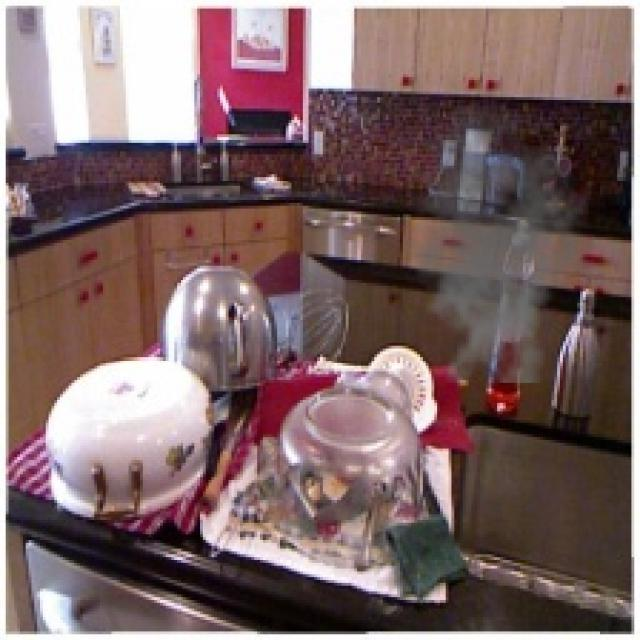Smoke: (392, 100, 592, 383)
